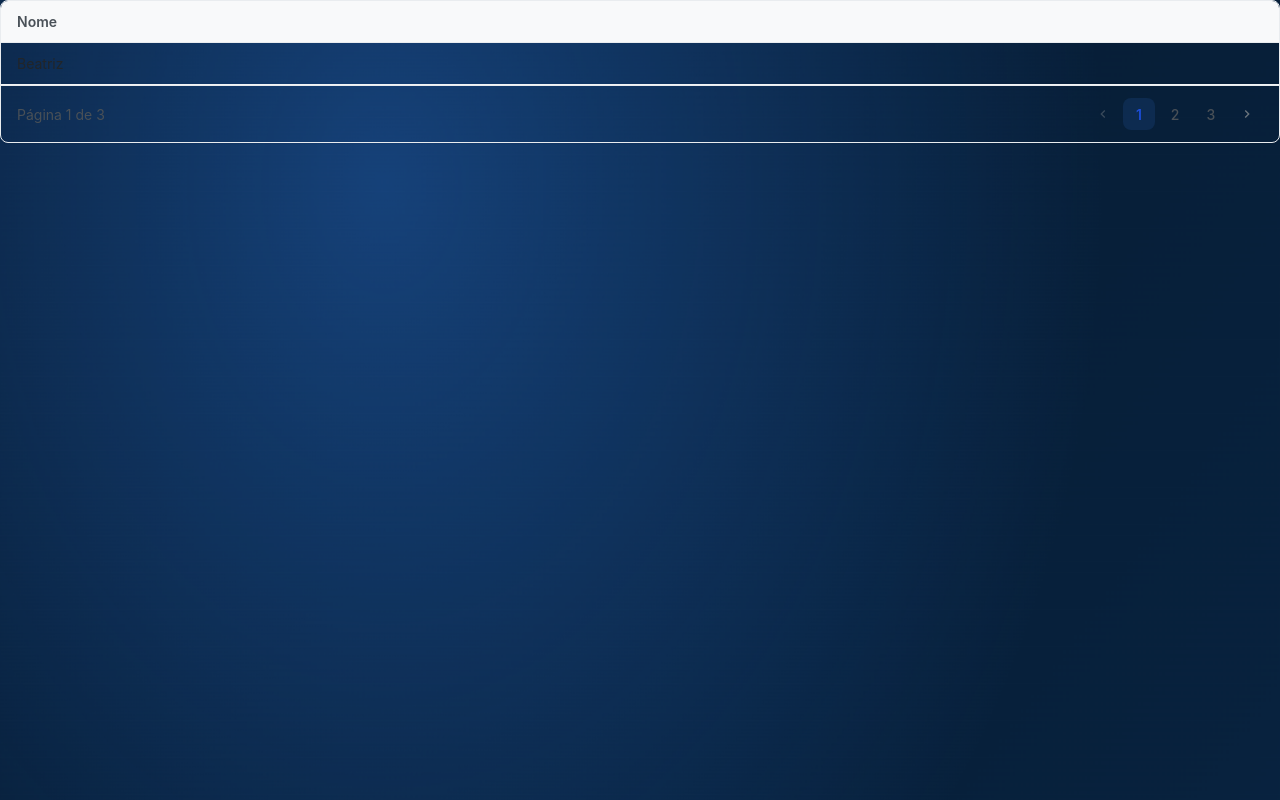
Table › numbers the page buttons and marks the current page
What coordinates should you click on to do the following:
click the button named "Página 3"
I would click on:
 (1211, 114)
Its box is [1195,98,1227,130].
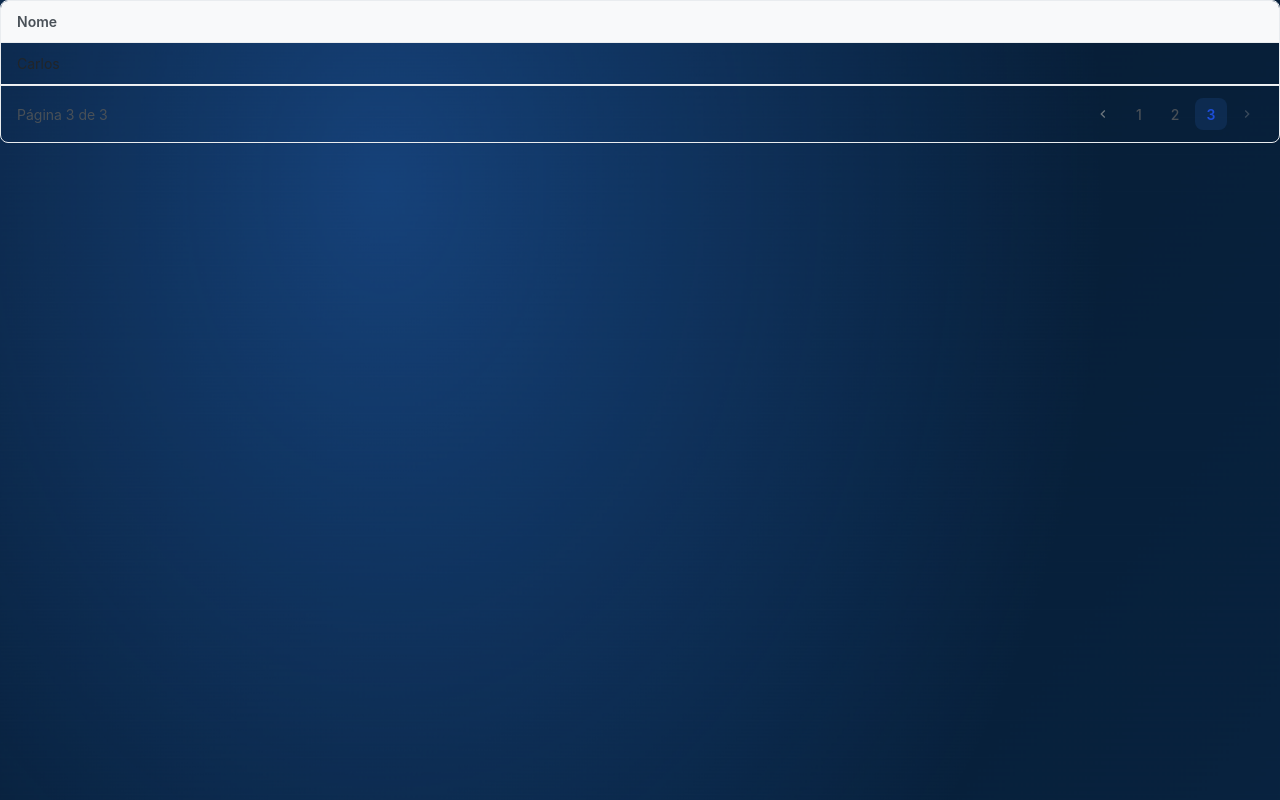
Now the text "Carlos" is shown, box [1,42,1279,84]
